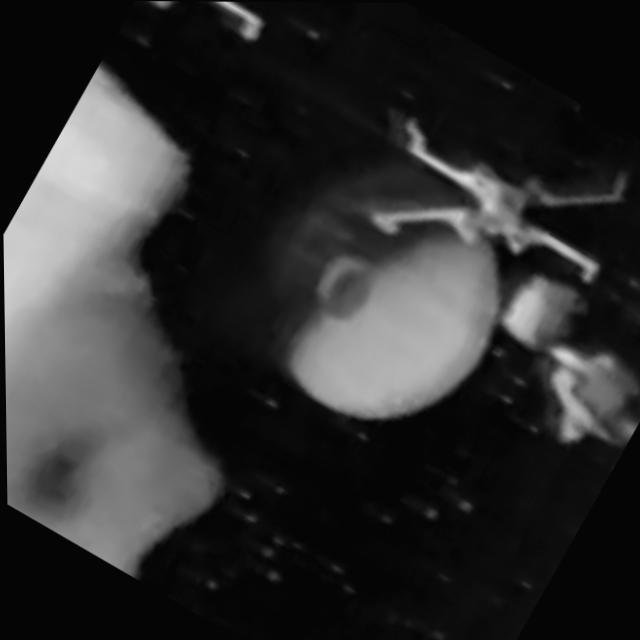death-stars: (277, 168, 500, 419)
